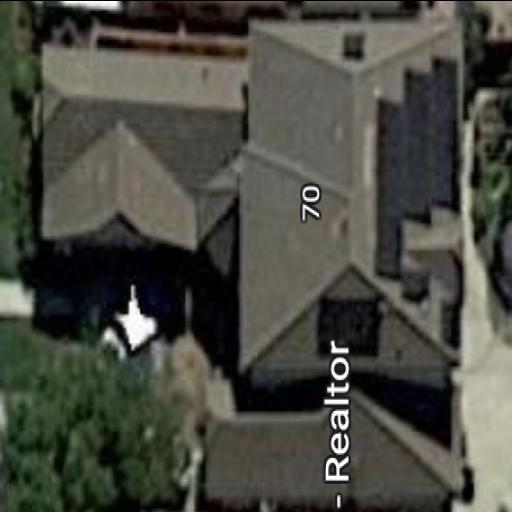Solar-Slope-Roof: (44, 15, 462, 371)
